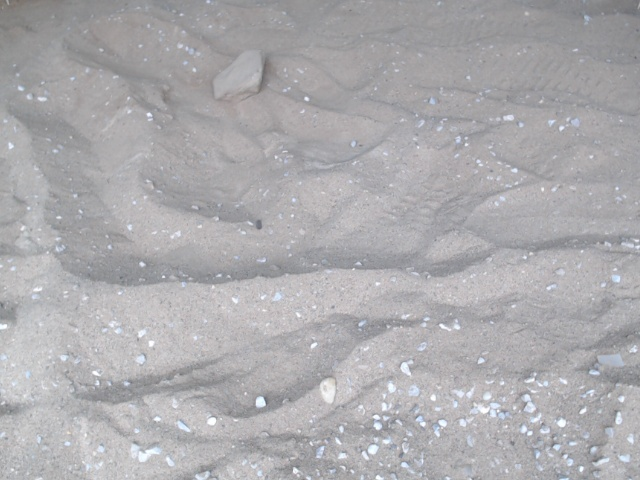rock: (205, 44, 274, 109)
